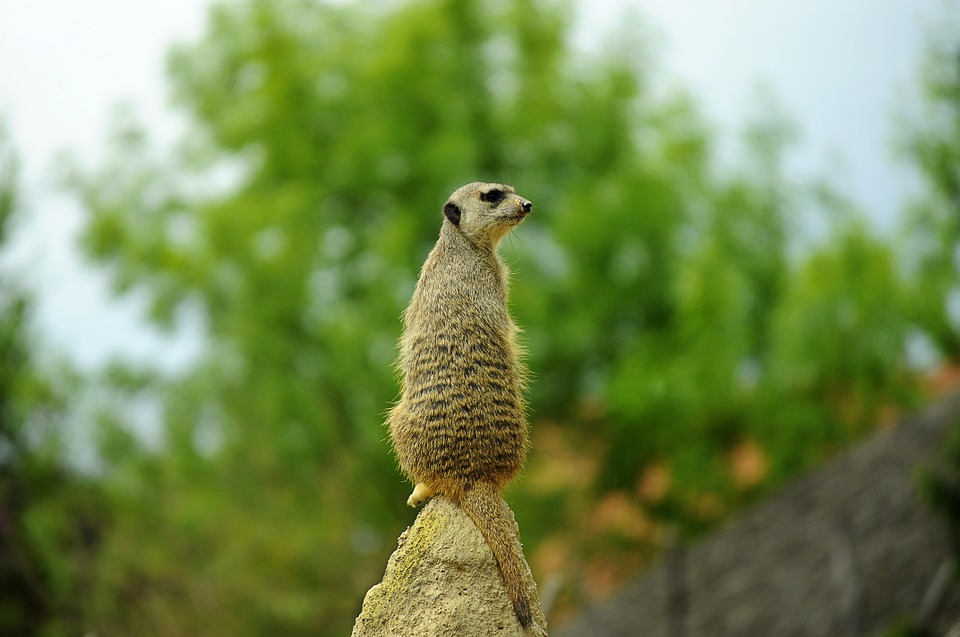meerkat: (361, 147, 559, 532)
